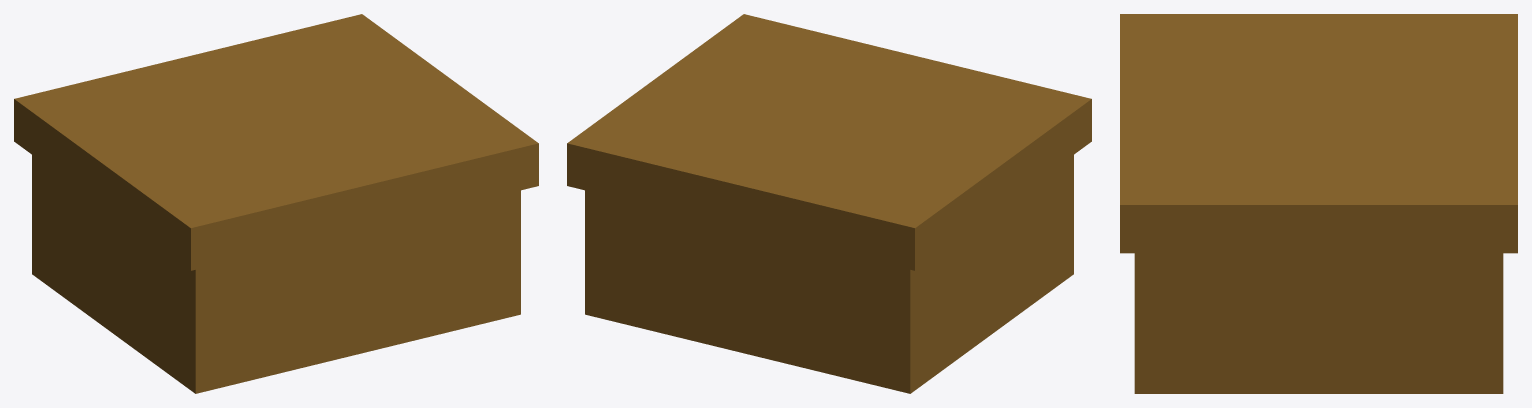
The picture shows the model from 3 angles, left to right: view 1: azimuth 30°, elevation 25°; view 2: azimuth 150°, elevation 25°; view 3: azimuth 270°, elevation 25°; orthographic projection. The views are drawn at different scales.
Visible parts, largest first — view 1: Prop_SmallStorageBox_04; view 2: Prop_SmallStorageBox_04; view 3: Prop_SmallStorageBox_04.
Part boxes in pixels (x1,y1,x2,y2): Prop_SmallStorageBox_04: [14, 14, 538, 393]; Prop_SmallStorageBox_04: [567, 14, 1091, 393]; Prop_SmallStorageBox_04: [1120, 14, 1517, 393].
Size of the model in its own units: 34.58 by 16.45 by 30.41.
Materials: 1 (1 with a texture image).
